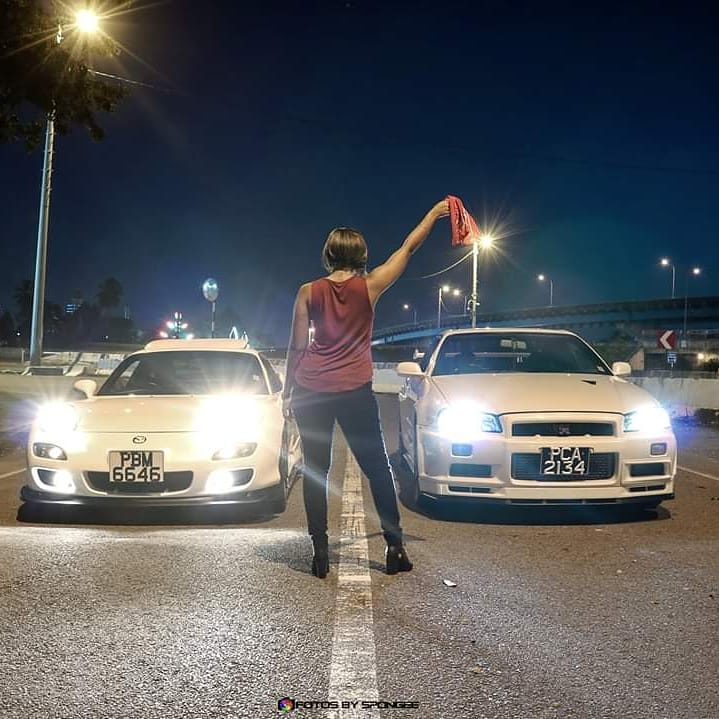License-Plate: (109, 450, 163, 481), (541, 446, 588, 474)
